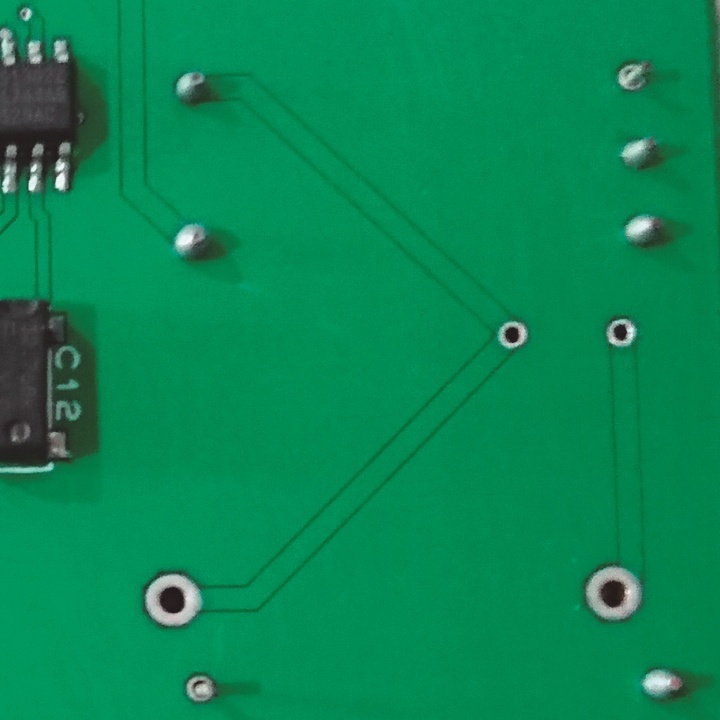F: (578, 562, 648, 629), (140, 568, 208, 634), (613, 57, 656, 99), (181, 669, 220, 708), (605, 317, 643, 353), (495, 315, 531, 352)
